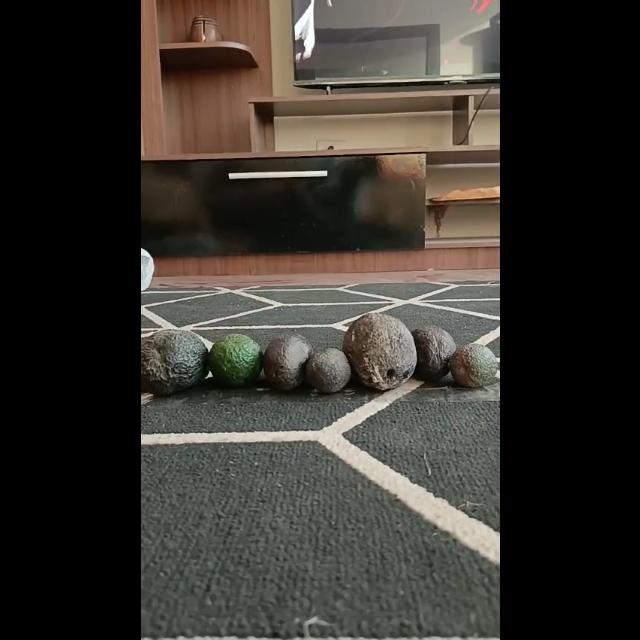Primera: (342, 312, 416, 390), (140, 330, 208, 396)
Segunda: (260, 333, 312, 391), (208, 334, 262, 386), (408, 325, 456, 381)
Tercera: (449, 342, 497, 388), (305, 348, 351, 392)
